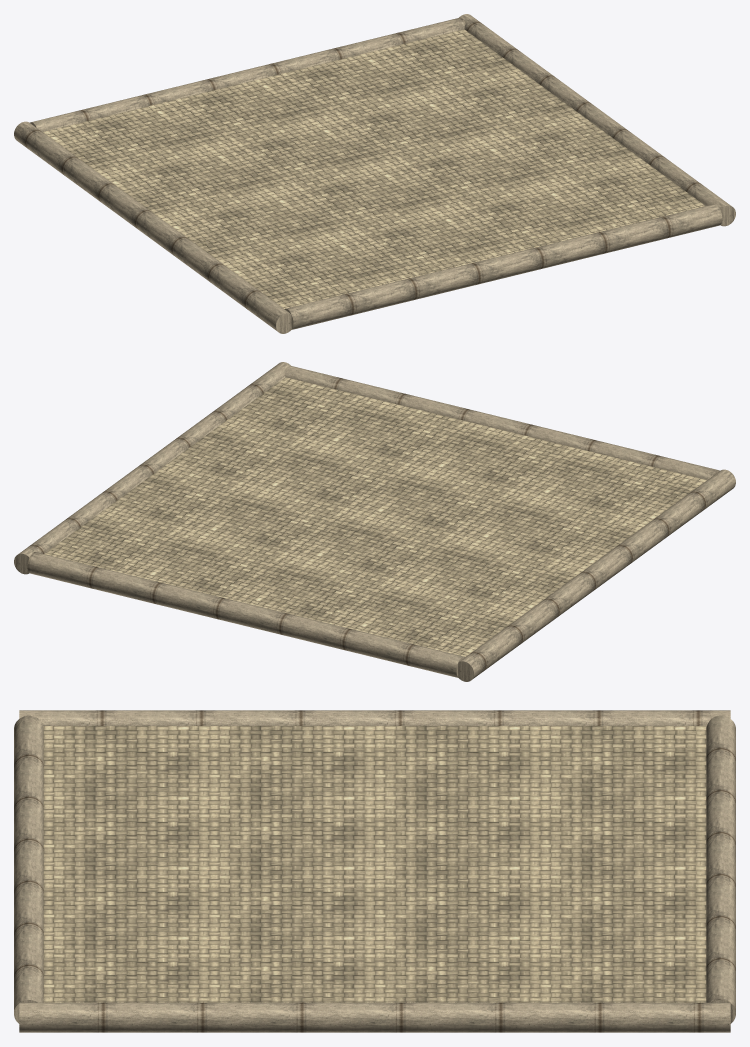
The model's file is ceiling.glb.
3 renders of one model, top to bottom at view 1: azimuth 30°, elevation 25°; view 2: azimuth 150°, elevation 25°; view 3: azimuth 270°, elevation 25°, orthographic. The views are drawn at different scales.
Visible parts, largest first — view 1: ceiling; view 2: ceiling; view 3: ceiling.
Boxes of the visible parts, x1,y1,x2,y2 form: ceiling: (14,14,735,333); ceiling: (14,362,735,681); ceiling: (14,710,735,1032).
Bounding box in the file's own units: 6.54 × 0.2737 × 6.54.
2 materials, 2 textured.
